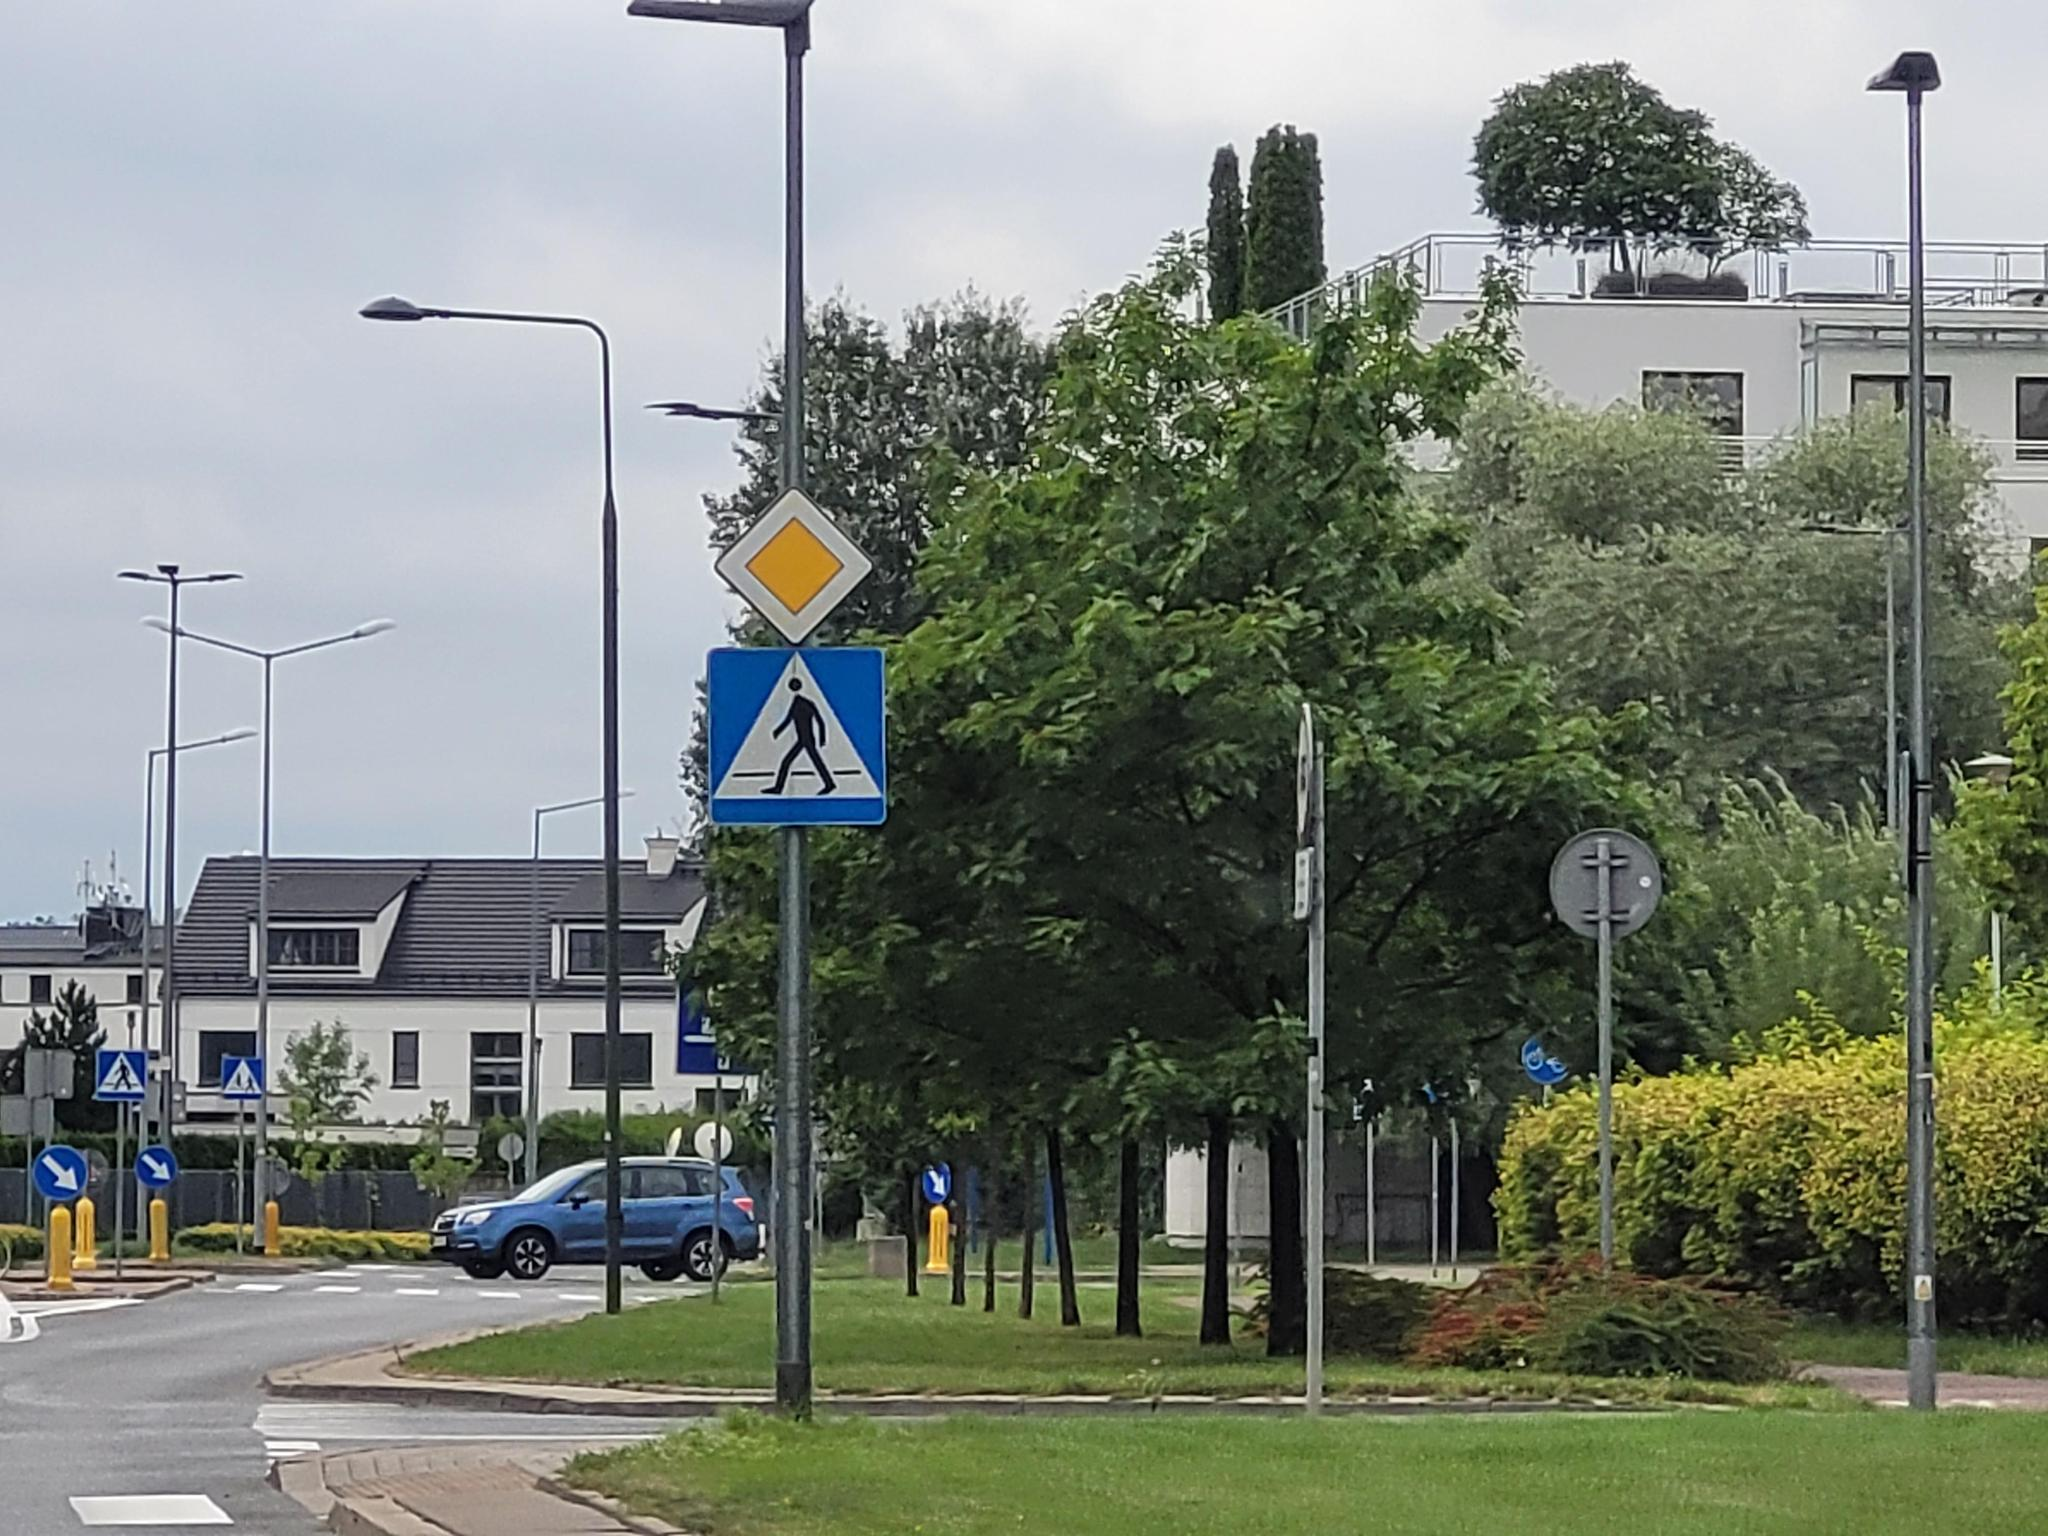information: (706, 649, 890, 829), (716, 487, 872, 645), (95, 1050, 148, 1100), (219, 1054, 264, 1100)
mandatory: (32, 1144, 89, 1202), (1519, 1031, 1571, 1083), (134, 1146, 181, 1191), (919, 1160, 955, 1204)
